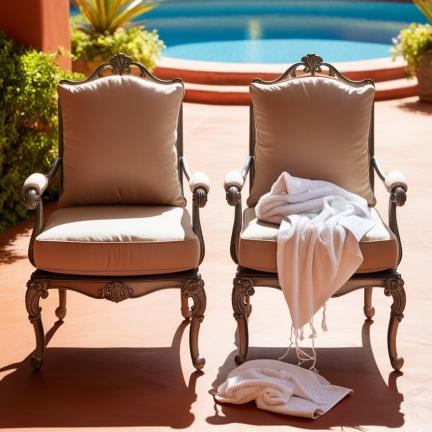empty chair: (24, 54, 209, 370)
occupied chair: (224, 54, 407, 369)
